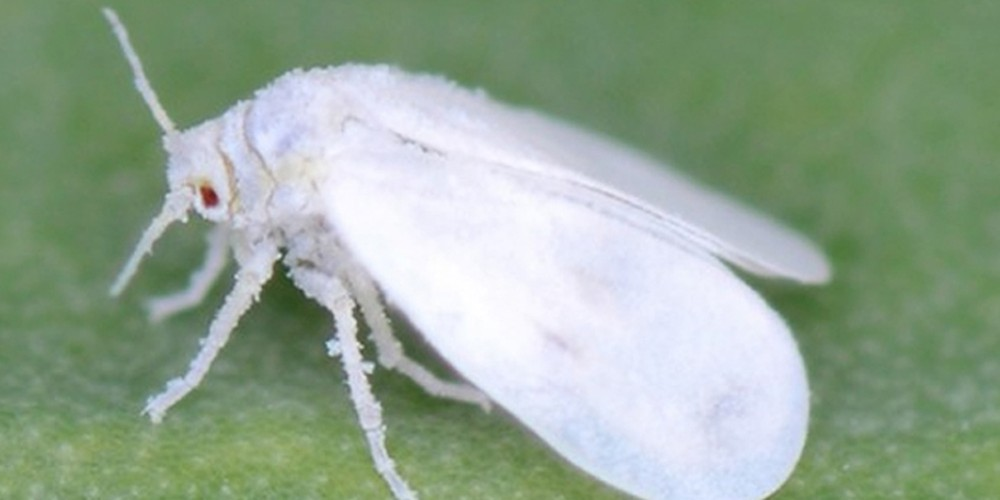Mosca Blanca: (80, 8, 836, 500)
